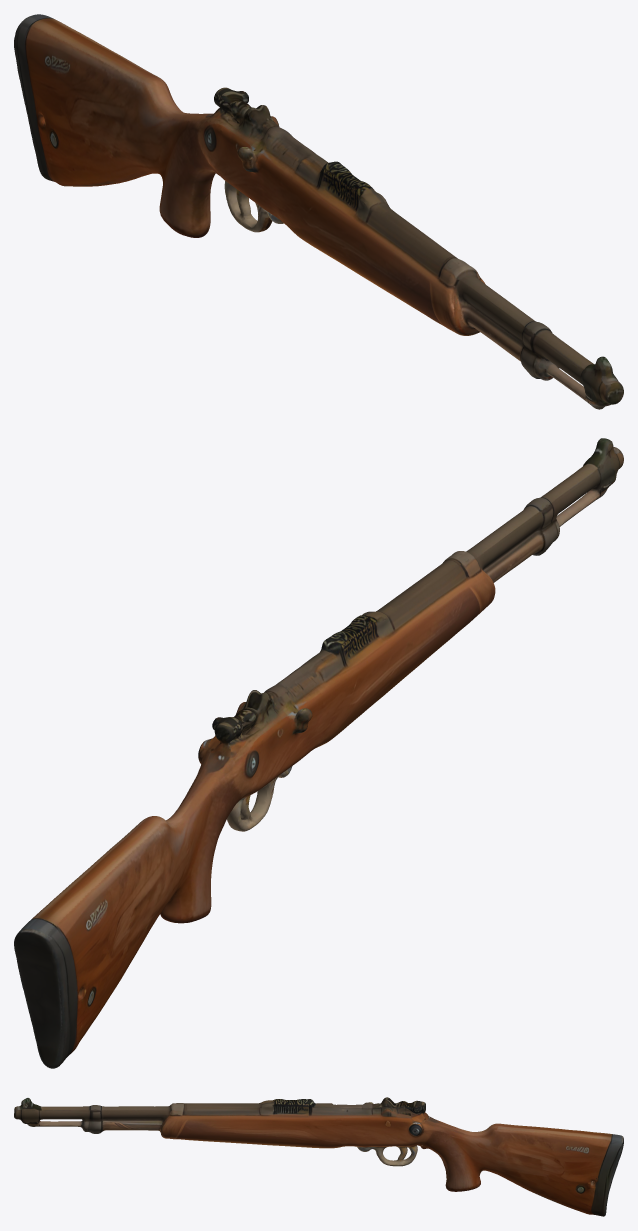
File: bolt_action_rifle.glb
3 views of the same model, one above another, from view 1: azimuth 30°, elevation 25°; view 2: azimuth 150°, elevation 25°; view 3: azimuth 270°, elevation 25° (orthographic). The views are drawn at different scales.
Parts seen in each view (by area): view 1: tripo_node_18361b45-65aa-4739-bc8e-1b0632130b73; view 2: tripo_node_18361b45-65aa-4739-bc8e-1b0632130b73; view 3: tripo_node_18361b45-65aa-4739-bc8e-1b0632130b73.
Boxes of the visible parts, x1,y1,x2,y2 form: tripo_node_18361b45-65aa-4739-bc8e-1b0632130b73: (14, 14, 623, 409); tripo_node_18361b45-65aa-4739-bc8e-1b0632130b73: (14, 438, 623, 1068); tripo_node_18361b45-65aa-4739-bc8e-1b0632130b73: (14, 1097, 623, 1216).
Bounding box in the file's own units: 0.0627 × 0.2025 × 0.9505.
1 material, 1 textured.
